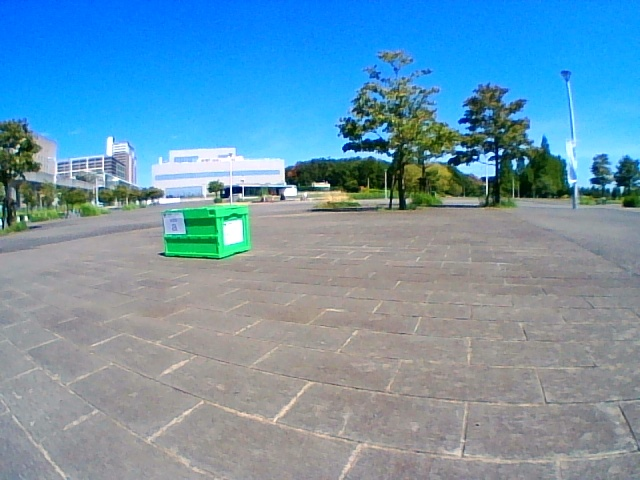green_box: (163, 205, 251, 260)
tag: (165, 214, 182, 234)
